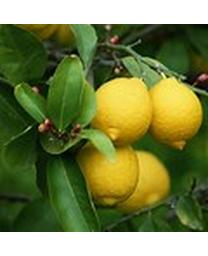lemon: (79, 136, 140, 208), (92, 78, 153, 146), (149, 80, 202, 150), (121, 149, 170, 212)
